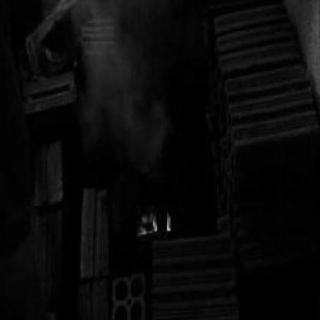Fire: (118, 194, 166, 240)
